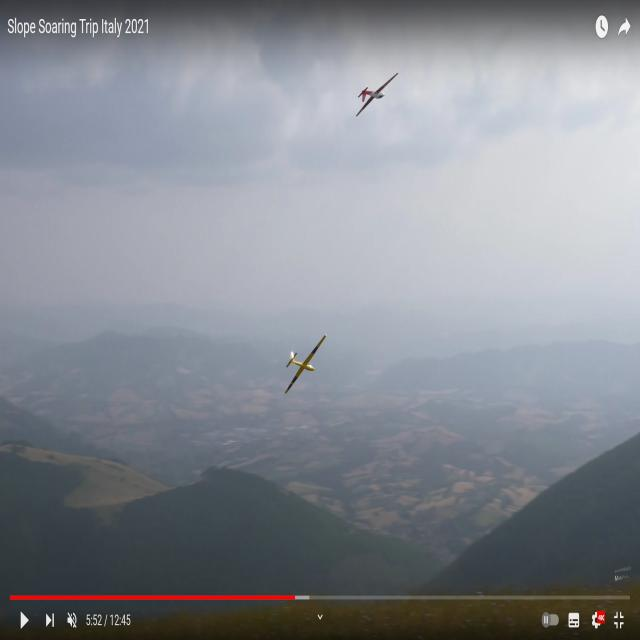iha: (285, 336, 328, 395), (357, 9, 400, 53)
